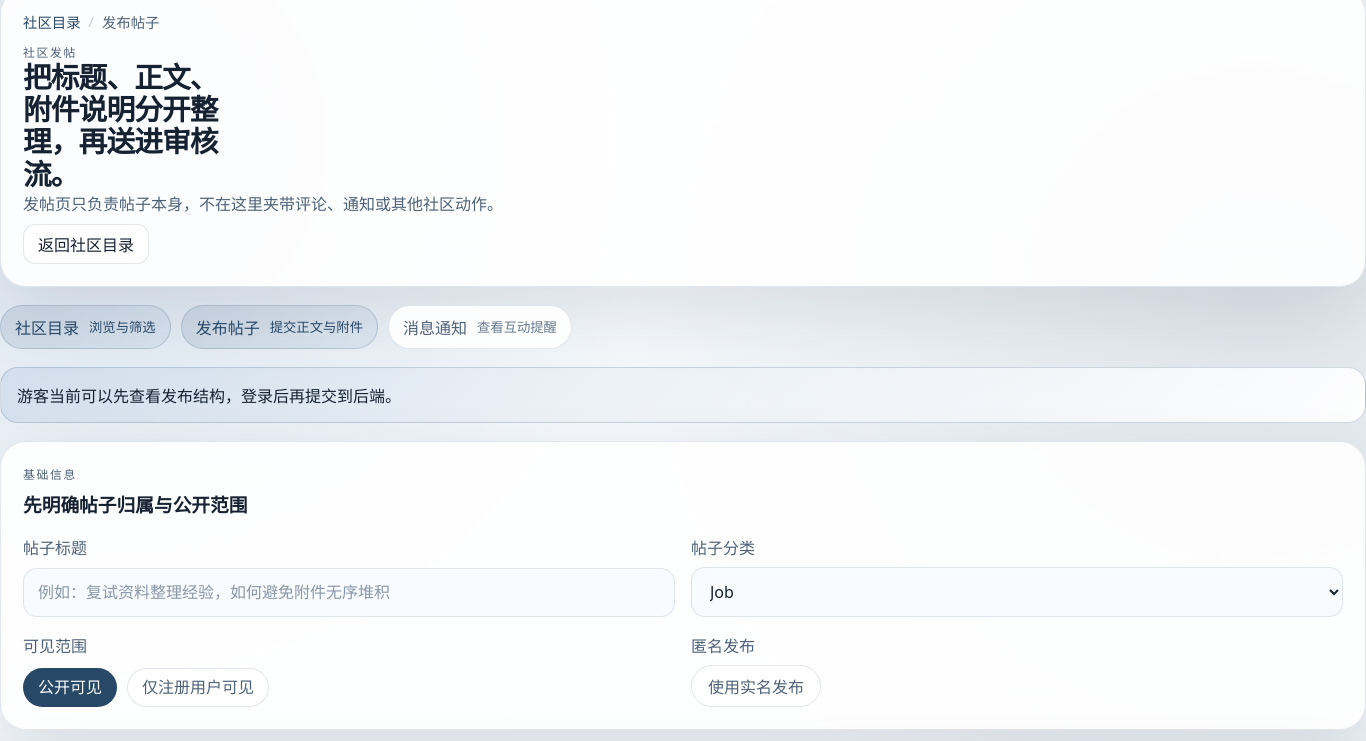
Test: CommunityComposerPage › shows a dialog for guests when they try to submit
Expected: the dropdown is shown, [691,567,1343,617]
In the field labelled "帖子标题": point(349, 592) [23,568,675,617], type "Guest Draft"
(page scrolled)
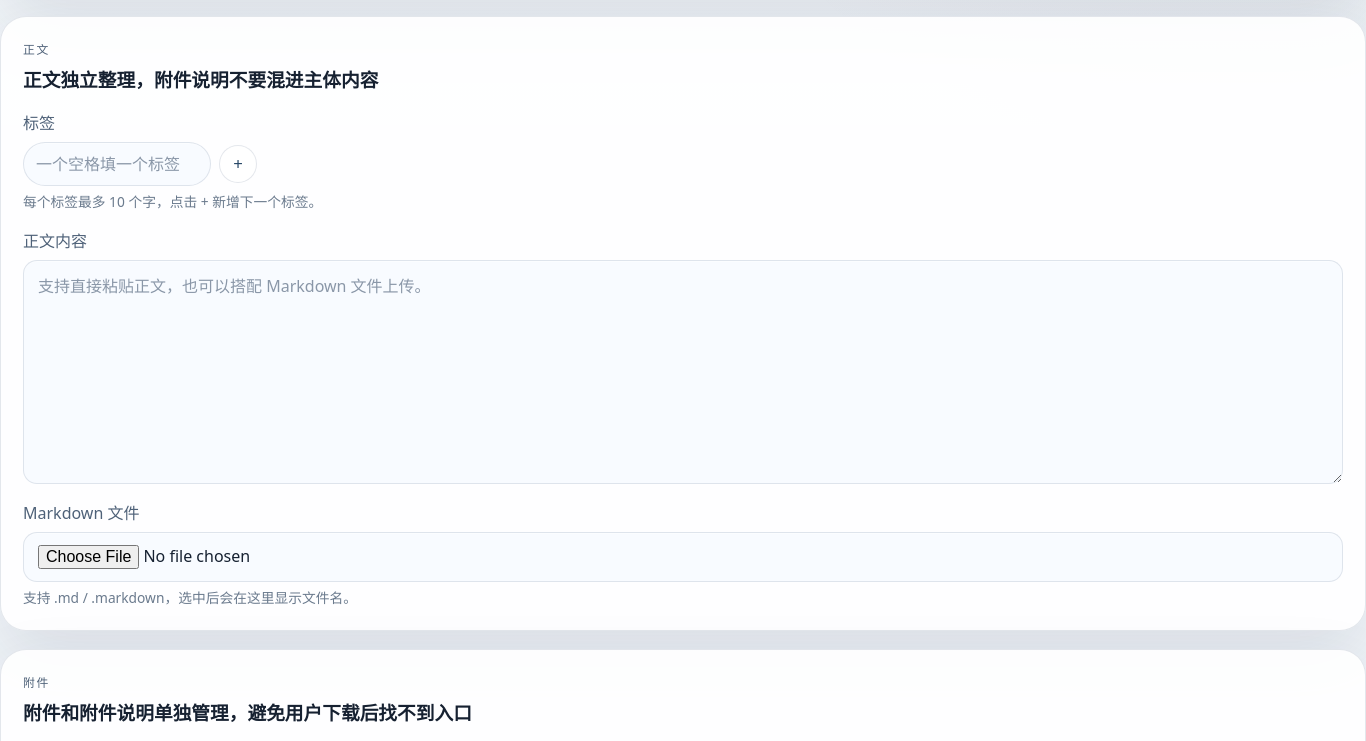
In the text box labelled "正文内容": point(683, 372) [23,260,1343,484], type "Guest content body"
(page scrolled)
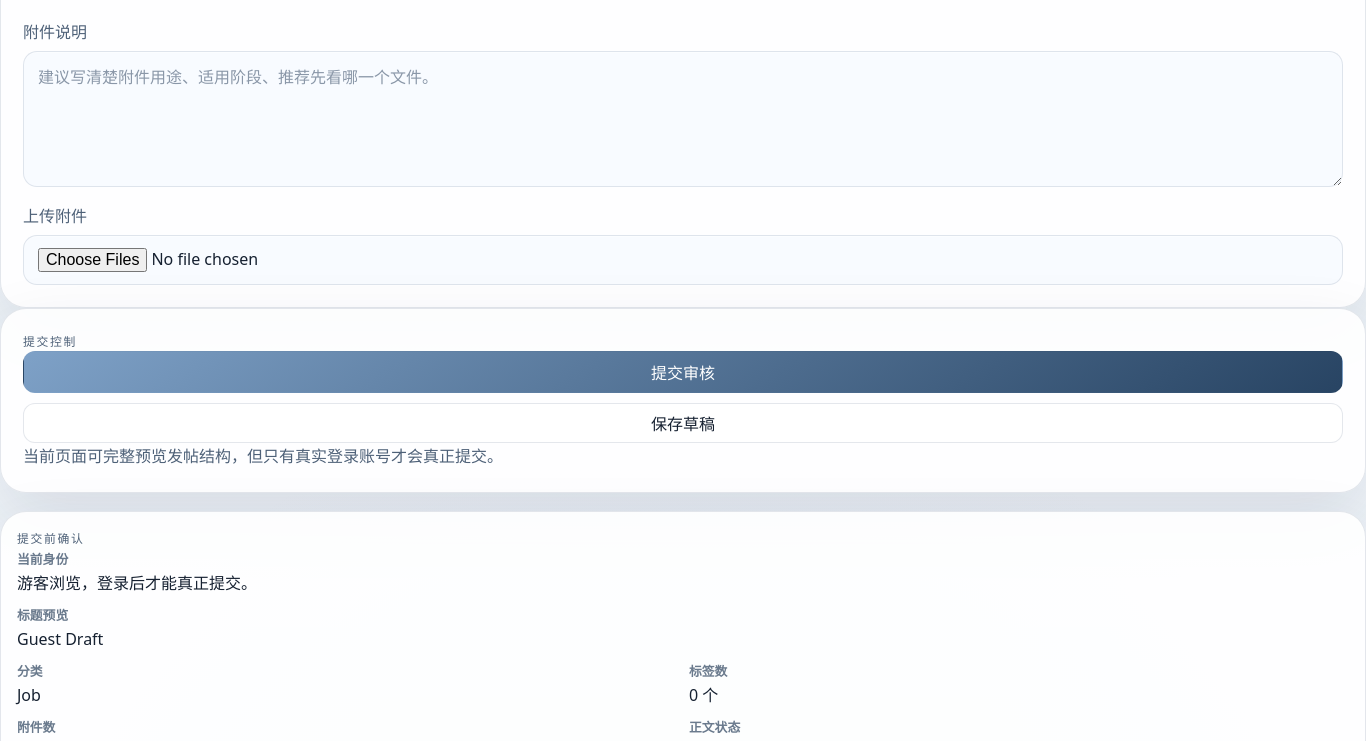
Click the button "提交审核": point(683, 372) [23,351,1343,393]
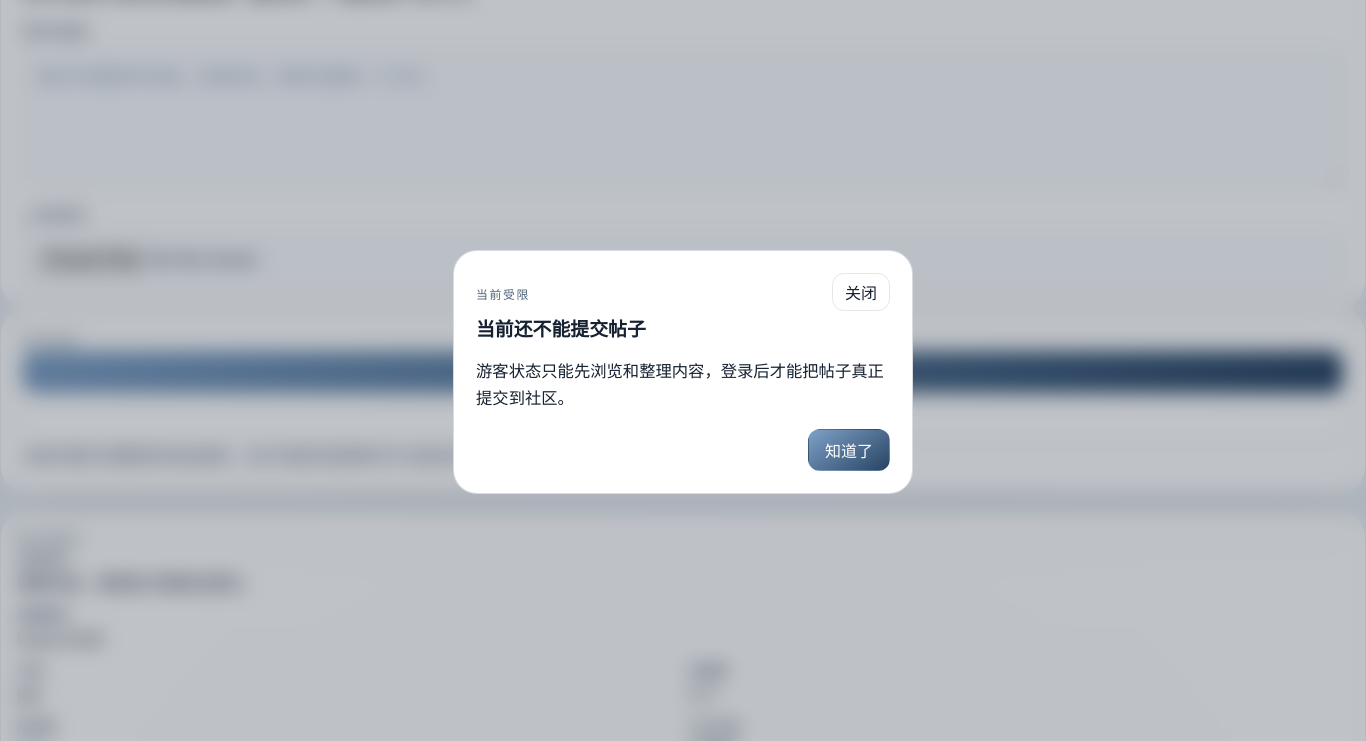
Result: the heading "当前还不能提交帖子" is shown at [476,314,646,342]
Result: the text "游客状态只能先浏览和整理内容，登录后才能把帖子真正提交到社区。" is shown at [476,358,890,413]
